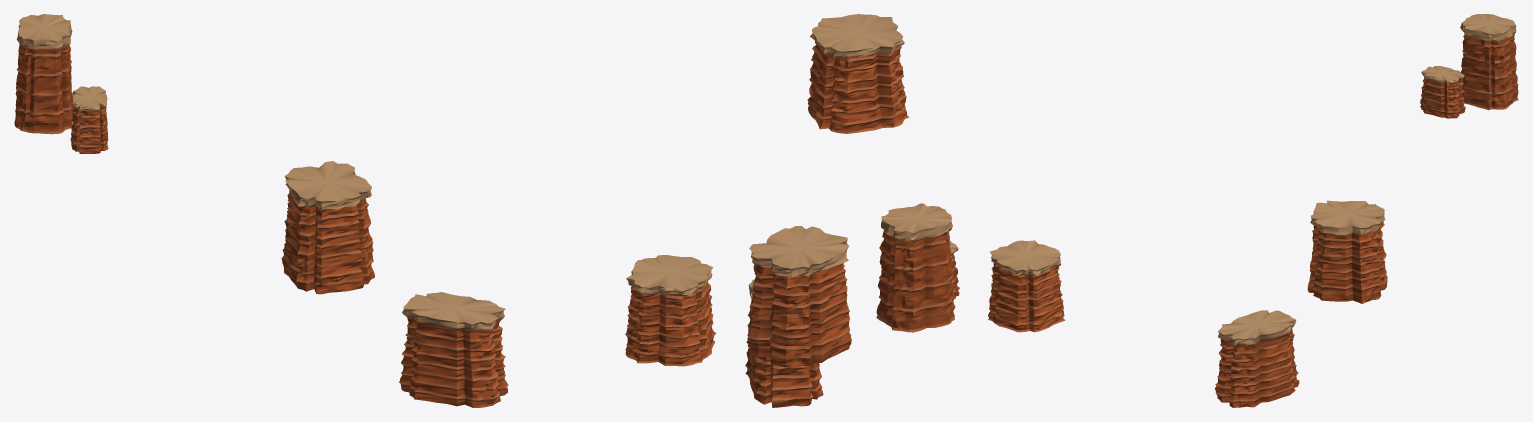
File: terrain-088.glb
3 renders of one model, left to right at view 1: azimuth 30°, elevation 25°; view 2: azimuth 150°, elevation 25°; view 3: azimuth 270°, elevation 25°, orthographic. The views are drawn at different scales.
Visible parts, largest first — view 1: terrain-088; view 2: terrain-088; view 3: terrain-088.
Boxes of the visible parts, bbox=[...] form: terrain-088: bbox=[14, 14, 716, 407]; terrain-088: bbox=[745, 14, 959, 407]; terrain-088: bbox=[988, 14, 1518, 407].
Bounding box in the file's own units: 189 × 143 × 260.
